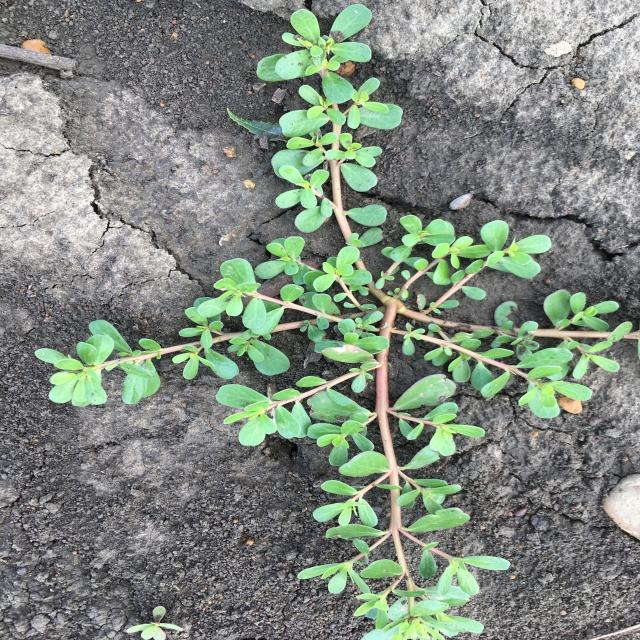Purslane: (34, 4, 640, 640)
